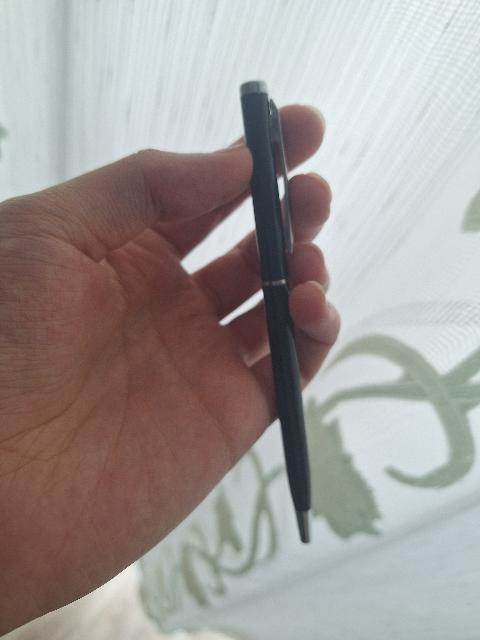writing_tool: (234, 77, 324, 549)
